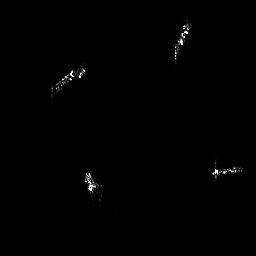ship: (47, 65, 89, 97), (173, 21, 192, 63), (80, 170, 106, 199), (209, 161, 245, 179)
